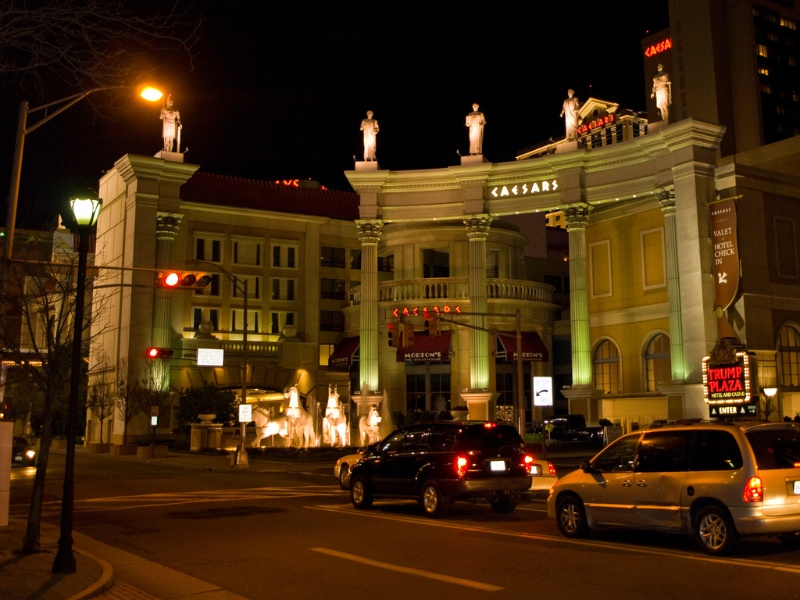red_light: (158, 266, 184, 291)
